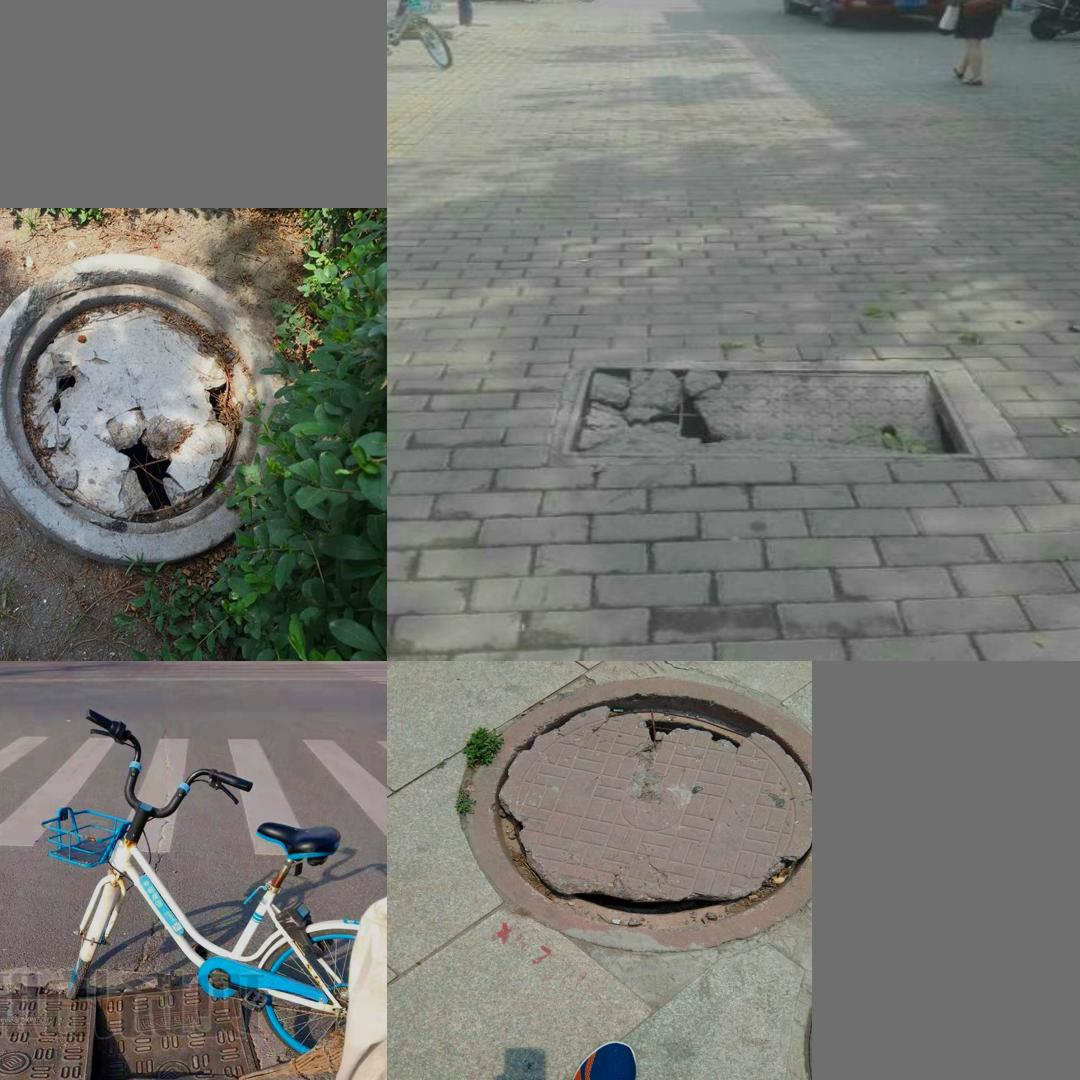broke: (0, 252, 305, 565), (471, 677, 812, 949), (553, 363, 980, 462), (0, 979, 288, 1080)
